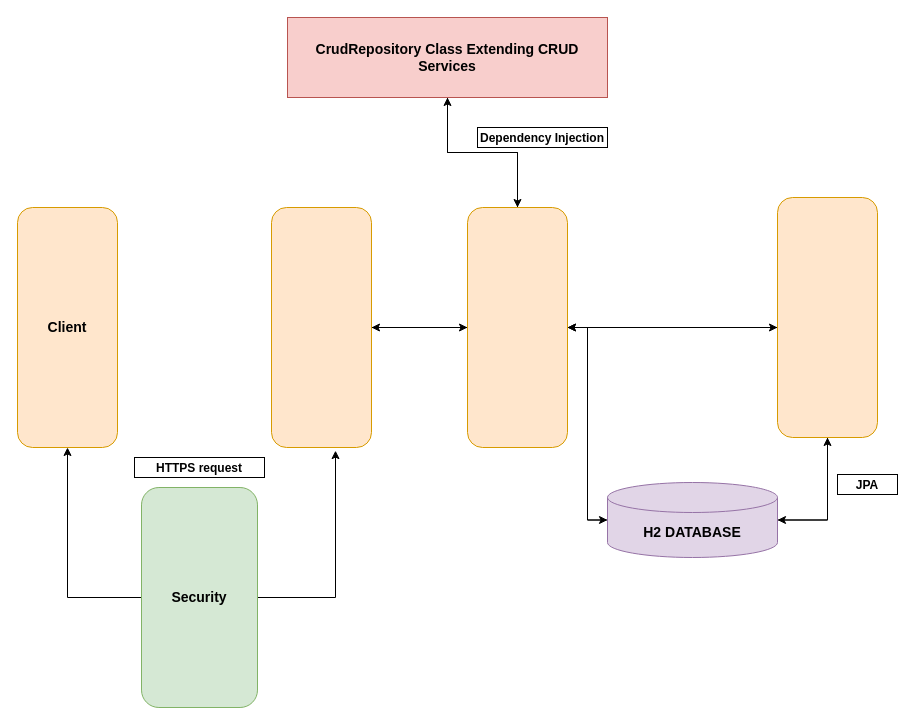
The diagram is 915 pixels wide and 725 high, and some of its shapes have lost their labels. Here are the shapes that lost their labels. From the top down, the centre of each, then its label:
At (x=321, y=327): "Controller".
At (x=517, y=327): "Service".
At (x=827, y=317): "Model".
